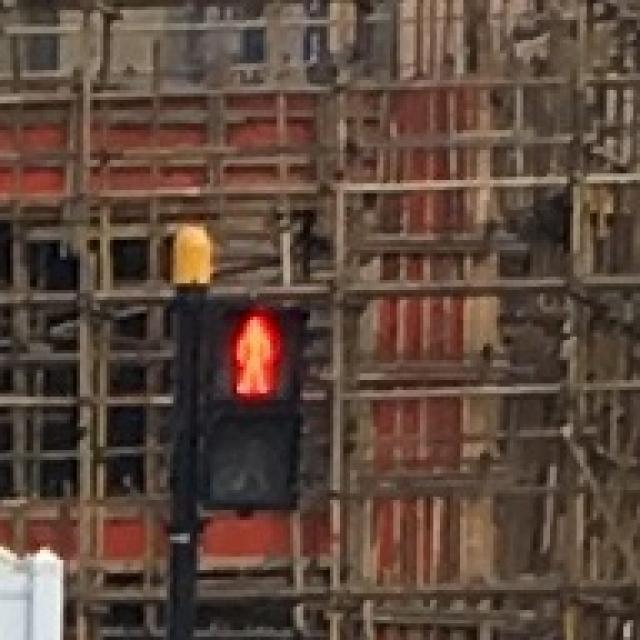red-crossing: (206, 303, 294, 397)
